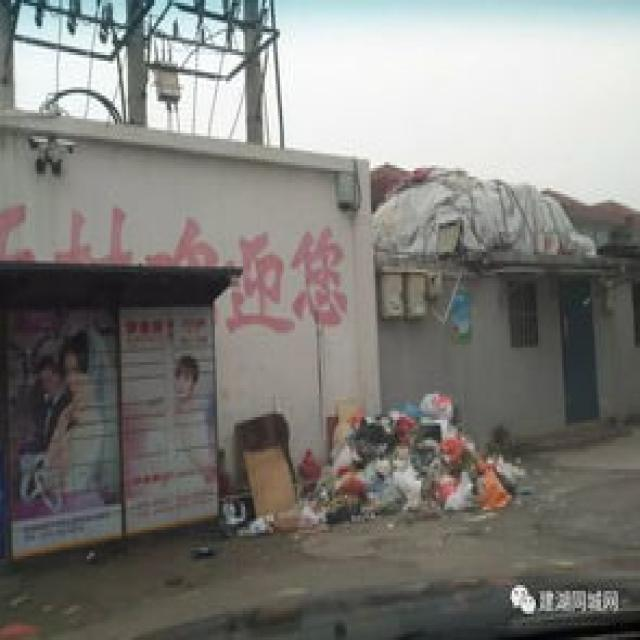garbage: (210, 388, 523, 536)
